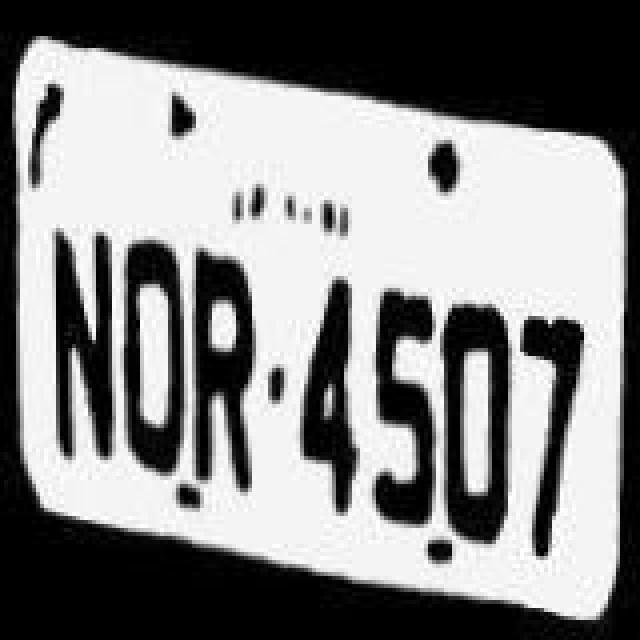4: (290, 256, 362, 516)
5: (364, 258, 440, 526)
7: (506, 292, 586, 564)
N: (40, 218, 120, 478)
O: (438, 272, 518, 544), (112, 224, 192, 476)
R: (188, 238, 268, 490)
